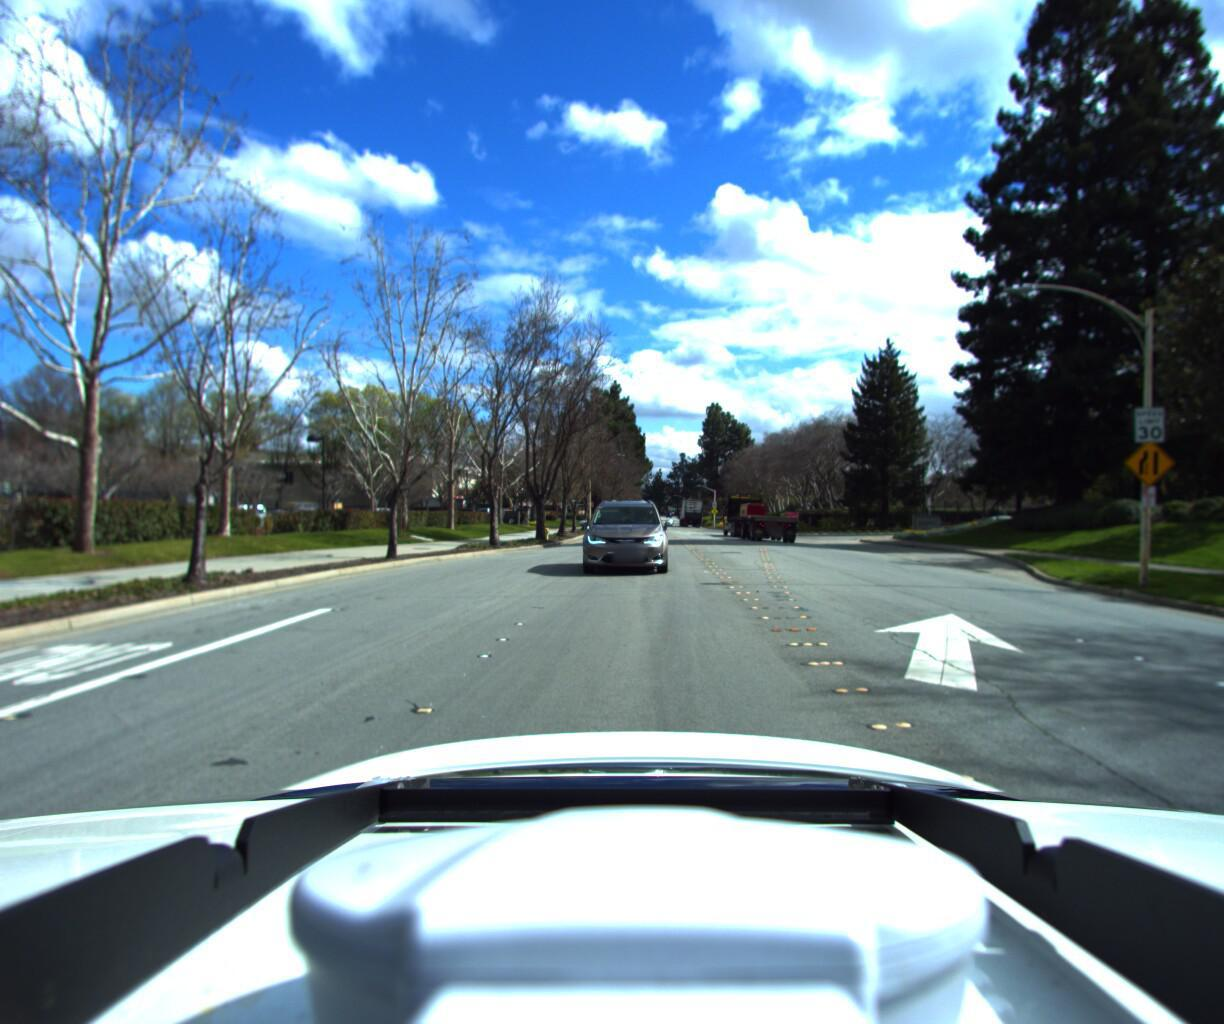car: (577, 497, 669, 582)
truck: (715, 487, 797, 555)
